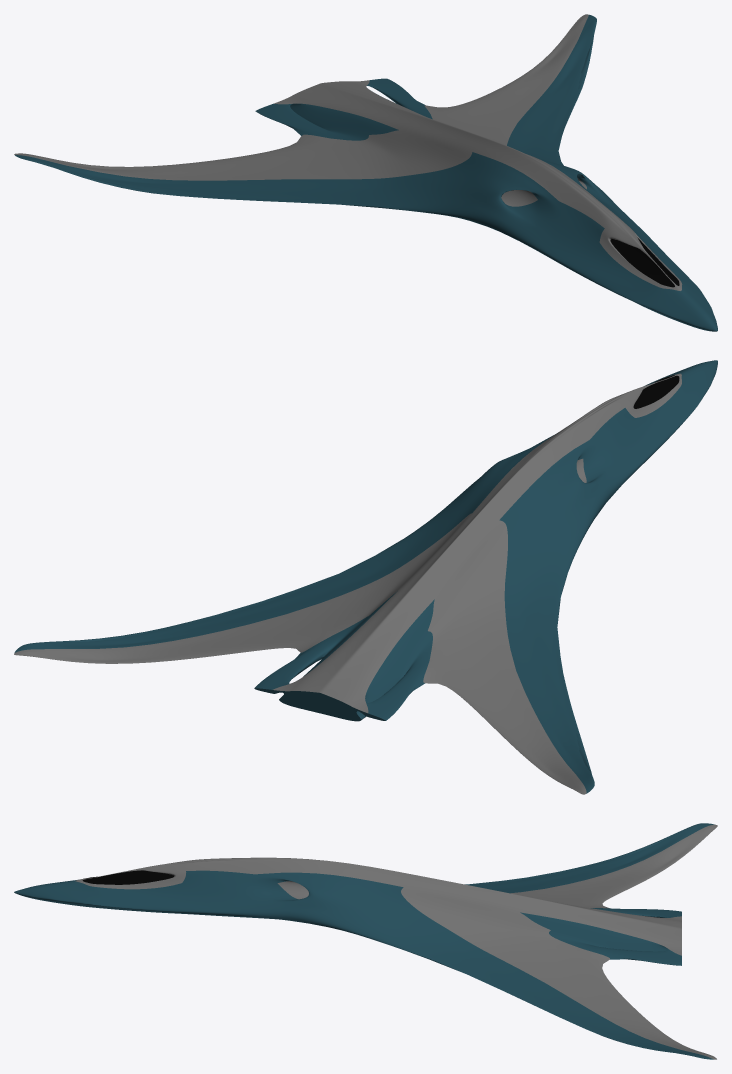
File: JetLeader.glb
3 views of the same model, one above another, from view 1: azimuth 30°, elevation 25°; view 2: azimuth 150°, elevation 25°; view 3: azimuth 270°, elevation 25° (orthographic). The views are drawn at different scales.
Parts seen in each view (by area): view 1: Cube; view 2: Cube; view 3: Cube.
Boxes of the visible parts, bbox=[...] form: Cube: bbox=[14, 14, 717, 331]; Cube: bbox=[14, 360, 717, 794]; Cube: bbox=[14, 823, 717, 1059].
Bounding box in the file's own units: 24.12 × 4.46 × 30.36.
